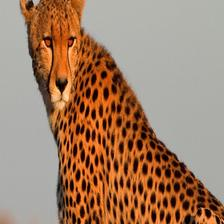Cheetah: (21, 0, 224, 224)
